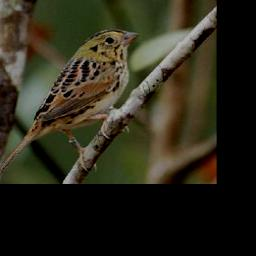Sparrow: (0, 26, 140, 178)
